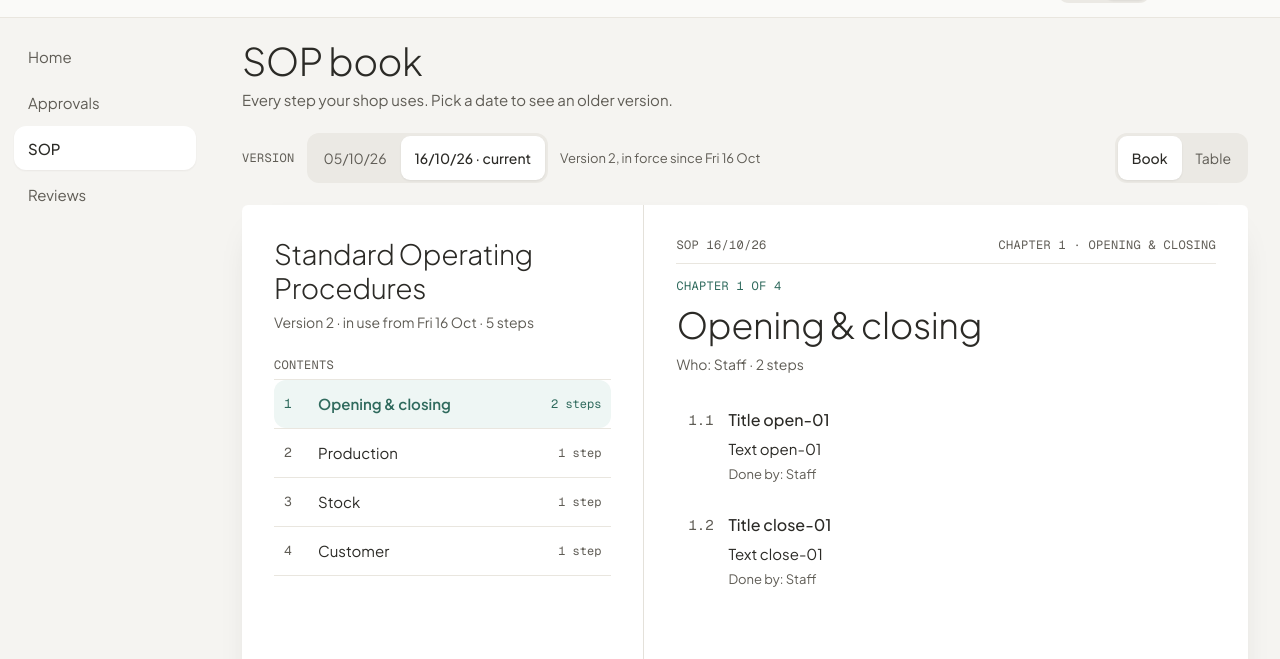
Scenario: SopApp Book/Table toggle (R-19 PR-9b §9.1) › the book turns pages to the improved step's chapter, and the seed version's legend shows 0 improved
Expected: the element named "View" is shown, 1115,133 -> 1248,183
Click the button "Stock 1 step" at (339,502), box 274,478 -> 611,526
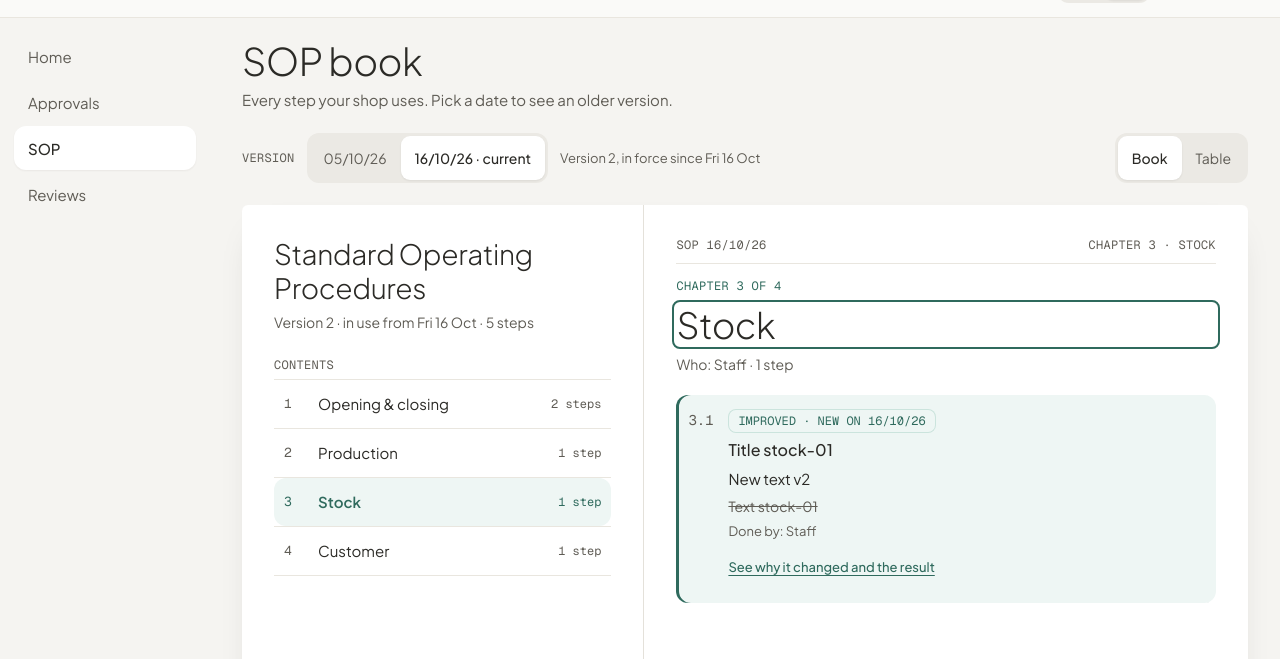
Expected: the text "IMPROVED · NEW ON 16/10/26" is shown, 728,409 -> 936,433
Expected: the text "Text stock-01" is shown, 728,497 -> 818,515
Click the button "05/10/26" at (355,158), box 310,136 -> 401,180
(page scrolled)
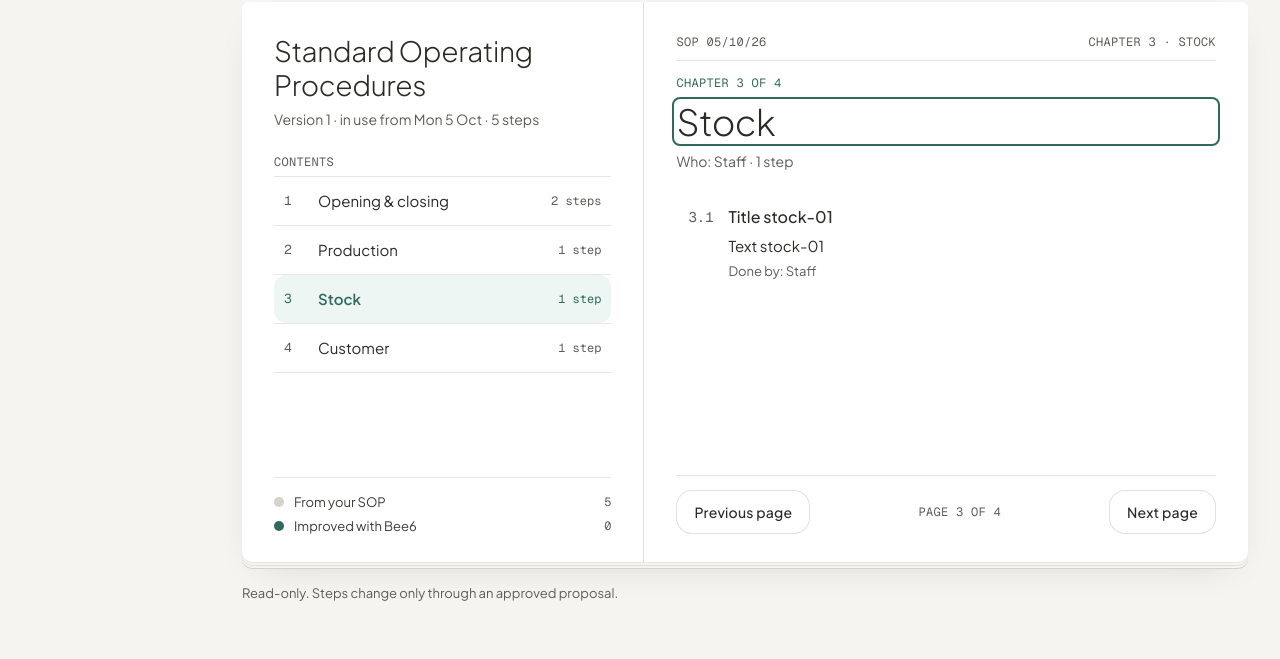
Expected: the text "NEW ON" is gone
